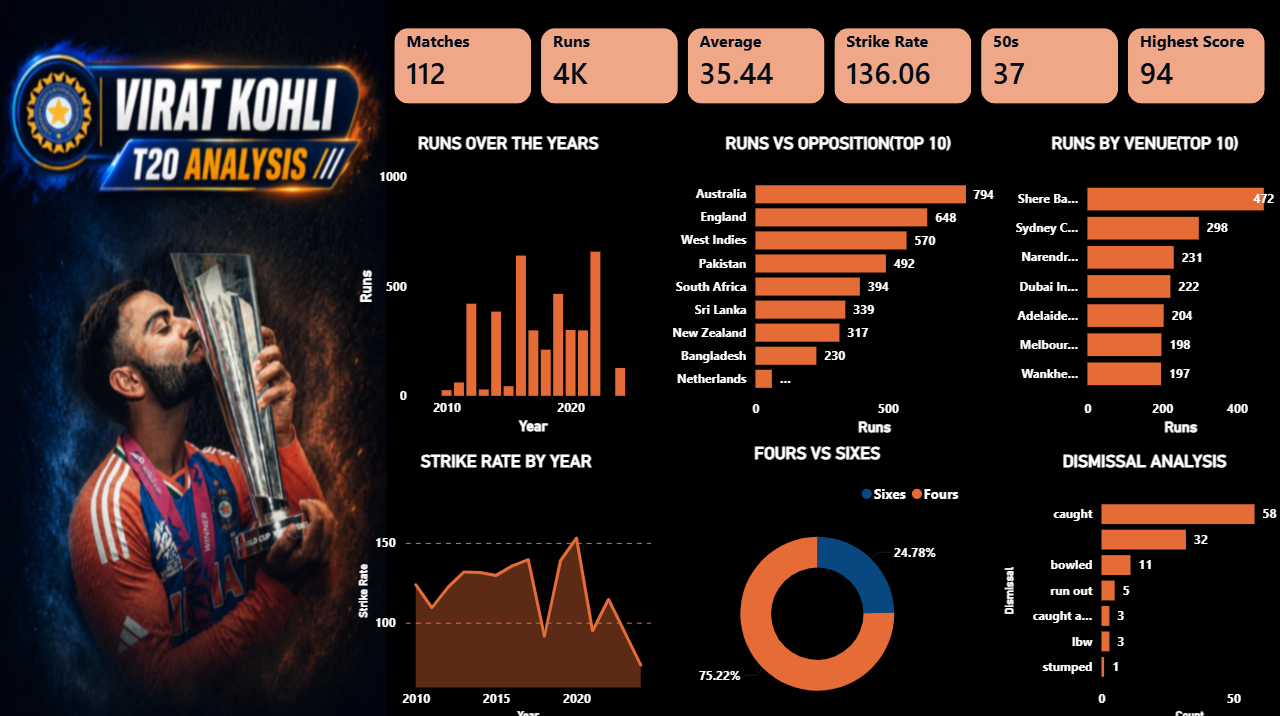

What the dashboard file says about the page in this screenshot:
{"tool":"powerbi","page":{"name":"T20","canvas":[1280,720],"ordinal":3},"visuals":[{"type":"clusteredColumnChart","title":"RUNS OVER THE YEARS","fields":{"Category":["Virat_Kohli_Master.Date.Variation.Date Hierarchy.Year"],"Y":["Sum(Virat_Kohli_Master.Runs)"]},"box":[356.3,135.2,300,300],"z":0},{"type":"clusteredBarChart","title":"RUNS VS OPPOSITION(TOP 10)","fields":{"Category":["Virat_Kohli_Master.Opponent"],"Y":["Sum(Virat_Kohli_Master.Runs)"]},"box":[668.1,135.2,332.4,300.6],"z":1000},{"type":"clusteredBarChart","title":"RUNS BY VENUE(TOP 10)","fields":{"Category":["Virat_Kohli_Master.Venue"],"Y":["Sum(Virat_Kohli_Master.Runs)"]},"box":[1000.5,135.2,279.9,300.6],"z":2000},{"type":"lineChart","title":"STRIKE RATE BY YEAR","fields":{"Category":["Virat_Kohli_Master.Date.Variation.Date Hierarchy.Year"],"Y":["Avg(Virat_Kohli_Master.Strike Rate)"]},"box":[356.3,451.7,295.9,268.8],"z":3000},{"type":"cardVisual","fields":{"Data":["Virat_Kohli_Master.T20 Matches","Virat_Kohli_Master.T20 Runs","Virat_Kohli_Master.T20 Average","Virat_Kohli_Master.T20 Strike Rate","Virat_Kohli_Master.T20 50ss","Virat_Kohli_Master.T20 Highest Score"]},"box":[376.5,14.3,903.5,109],"z":4000},{"type":"donutChart","title":"FOURS VS SIXES","fields":{"Y":["Sum(Virat_Kohli_Master.Sixes)","Sum(Virat_Kohli_Master.Fours)"]},"box":[668.1,445.4,291.1,275.2],"z":5000},{"type":"clusteredBarChart","title":"DISMISSAL ANALYSIS","fields":{"Category":["Virat_Kohli_Master.Dismissal"],"Y":["CountNonNull(Virat_Kohli_Master.Dismissal)"]},"box":[1000.5,451.7,279.9,268.8],"z":6000}]}

Visuals, with their boxes in screenshot pixels (x1, y1, x2, y2), scaled from the page's 1280x720 canvas onto the 1280x716 screenshot:
"RUNS OVER THE YEARS" clusteredColumnChart: (356, 134, 656, 433)
"RUNS VS OPPOSITION(TOP 10)" clusteredBarChart: (668, 134, 1000, 433)
"RUNS BY VENUE(TOP 10)" clusteredBarChart: (1000, 134, 1279, 433)
"STRIKE RATE BY YEAR" lineChart: (356, 449, 652, 715)
cardVisual - Virat_Kohli_Master.T20 Matches x Virat_Kohli_Master.T20 Runs: (376, 14, 1279, 123)
"FOURS VS SIXES" donutChart: (668, 443, 959, 715)
"DISMISSAL ANALYSIS" clusteredBarChart: (1000, 449, 1279, 715)
